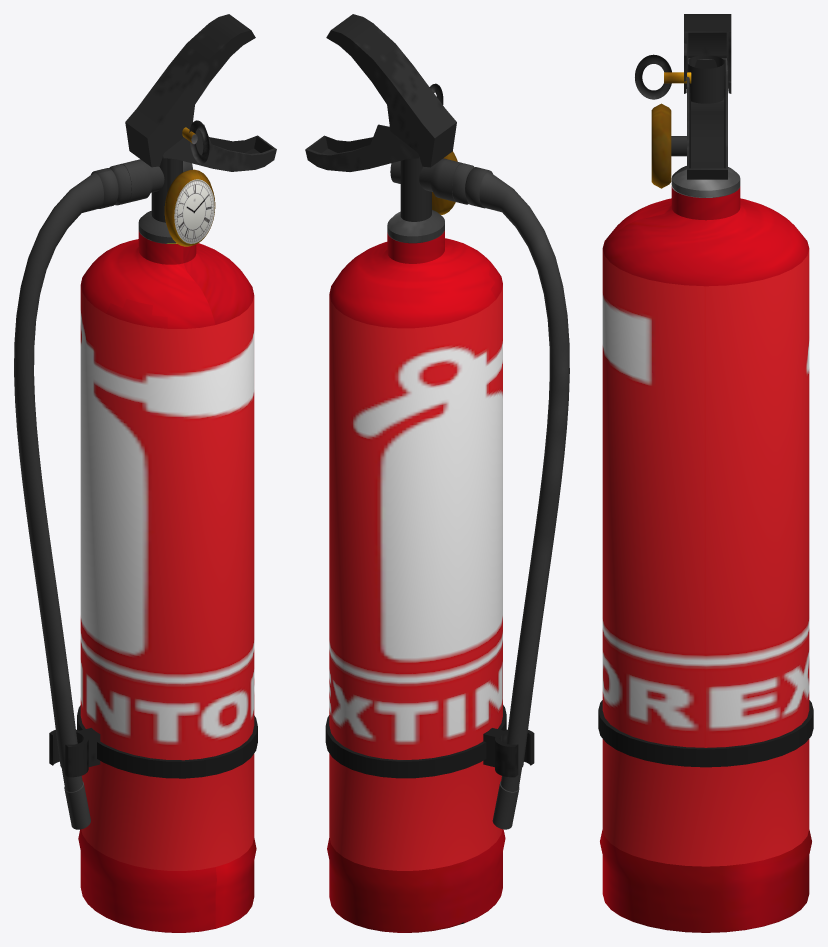
Rendered from existor.obj.
3 views of the same model, side by side, from view 1: azimuth 30°, elevation 25°; view 2: azimuth 150°, elevation 25°; view 3: azimuth 270°, elevation 25° (orthographic). The views are drawn at different scales.
Parts seen in each view (by area): view 1: Cylinder; view 2: Cylinder; view 3: Cylinder.
Part boxes in pixels (left/top/right/bottom): Cylinder: left=14, top=14, right=276, bottom=932; Cylinder: left=305, top=14, right=569, bottom=932; Cylinder: left=598, top=14, right=813, bottom=932.
Bounding box in the file's own units: 0.33 × 1.07 × 0.2278.
